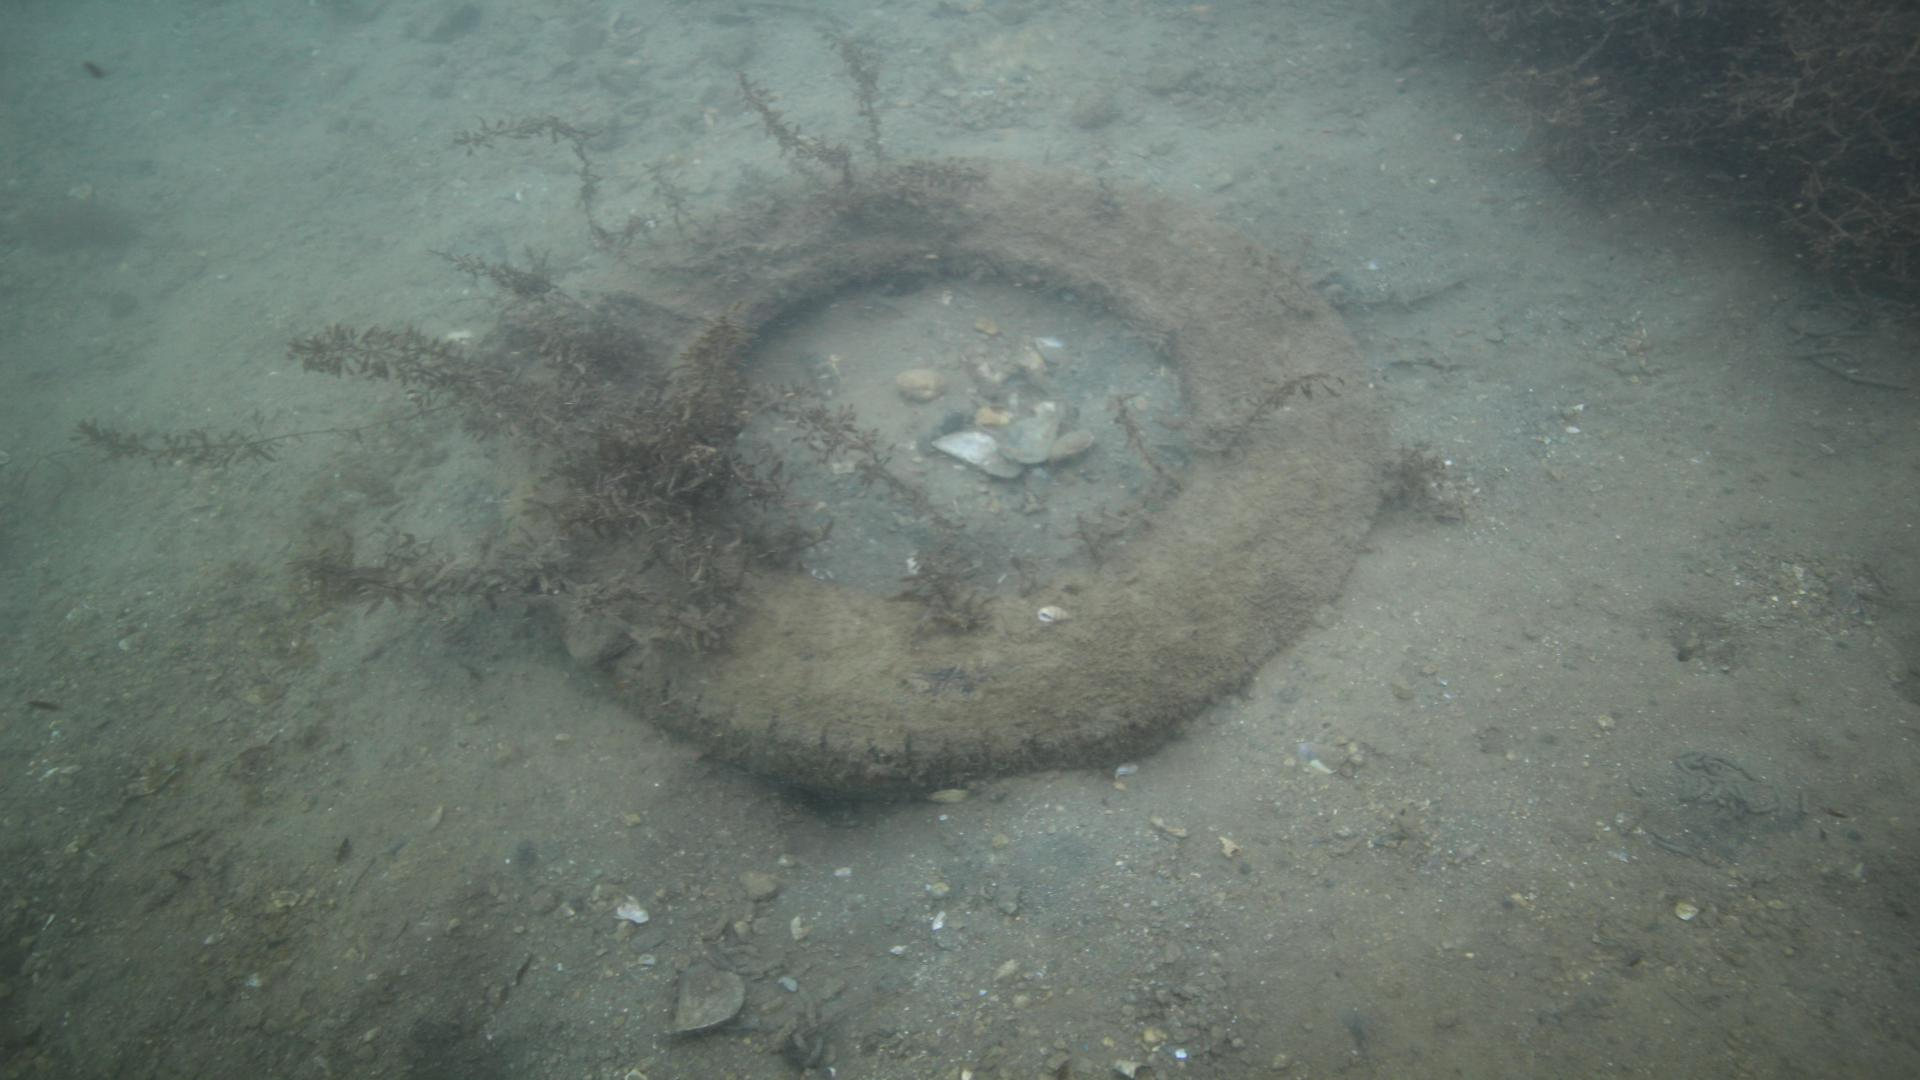tire: (492, 153, 1386, 819)
